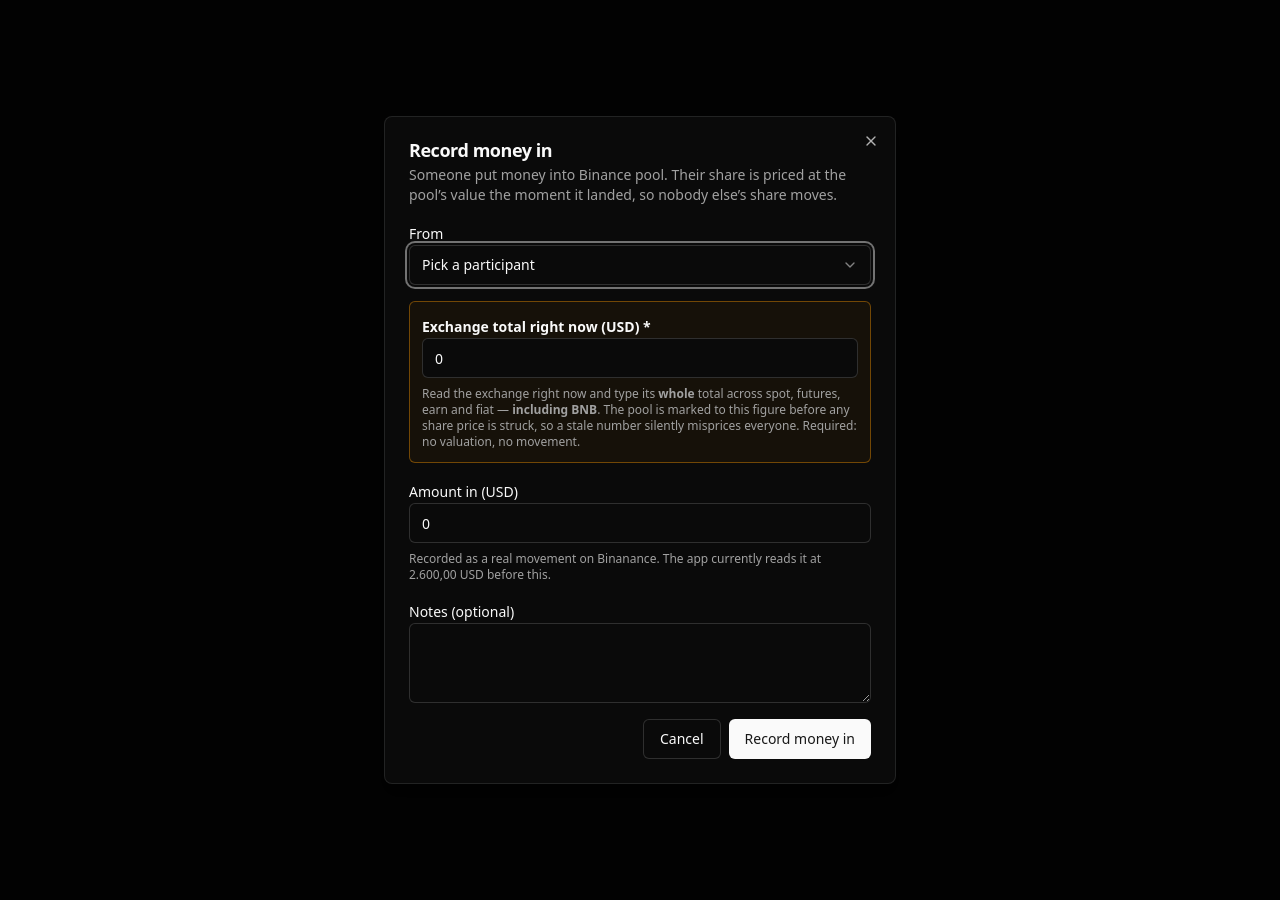
Scenario: amount validation › rejects a zero subscription
Click the dropdown with test id "subscription-participant-select".
click(478, 264)  # box top-left (409, 245), bottom-right (871, 285)
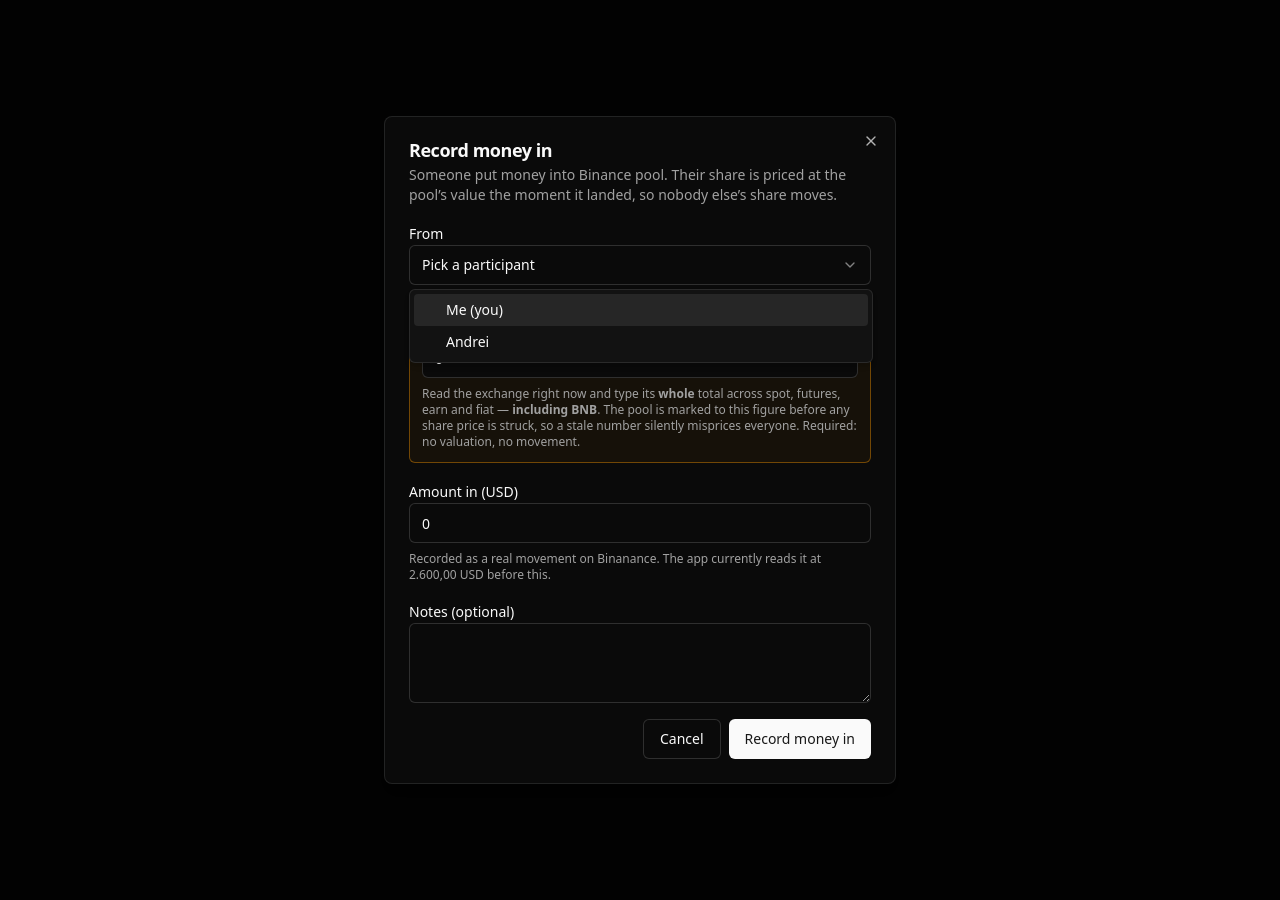
Click the option "Andrei".
click(468, 342)  # box top-left (446, 332), bottom-right (489, 351)
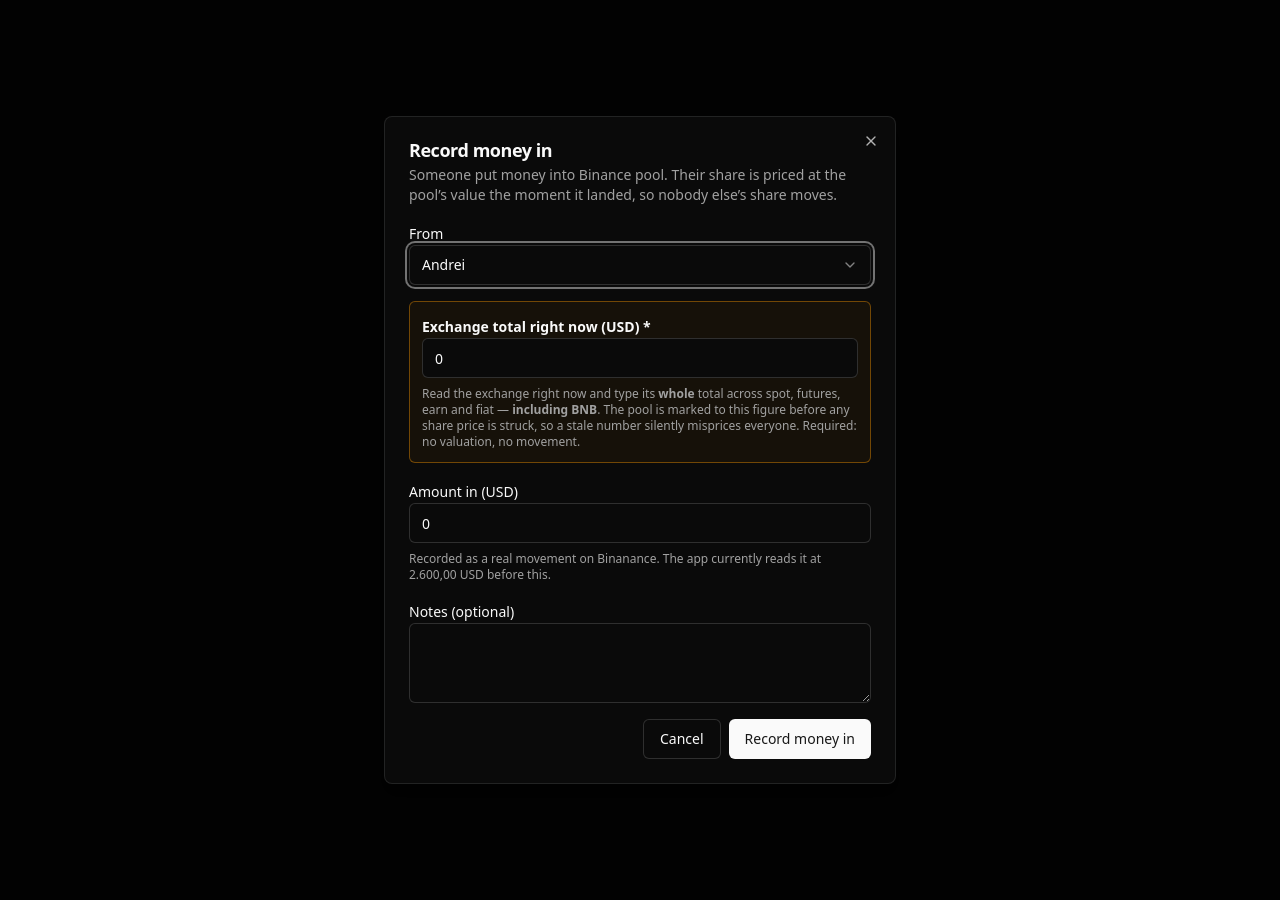
Replace the text in the number field with test id "subscription-pool-value-input" with "2500" at (640, 358), box top-left (422, 338), bottom-right (858, 378)
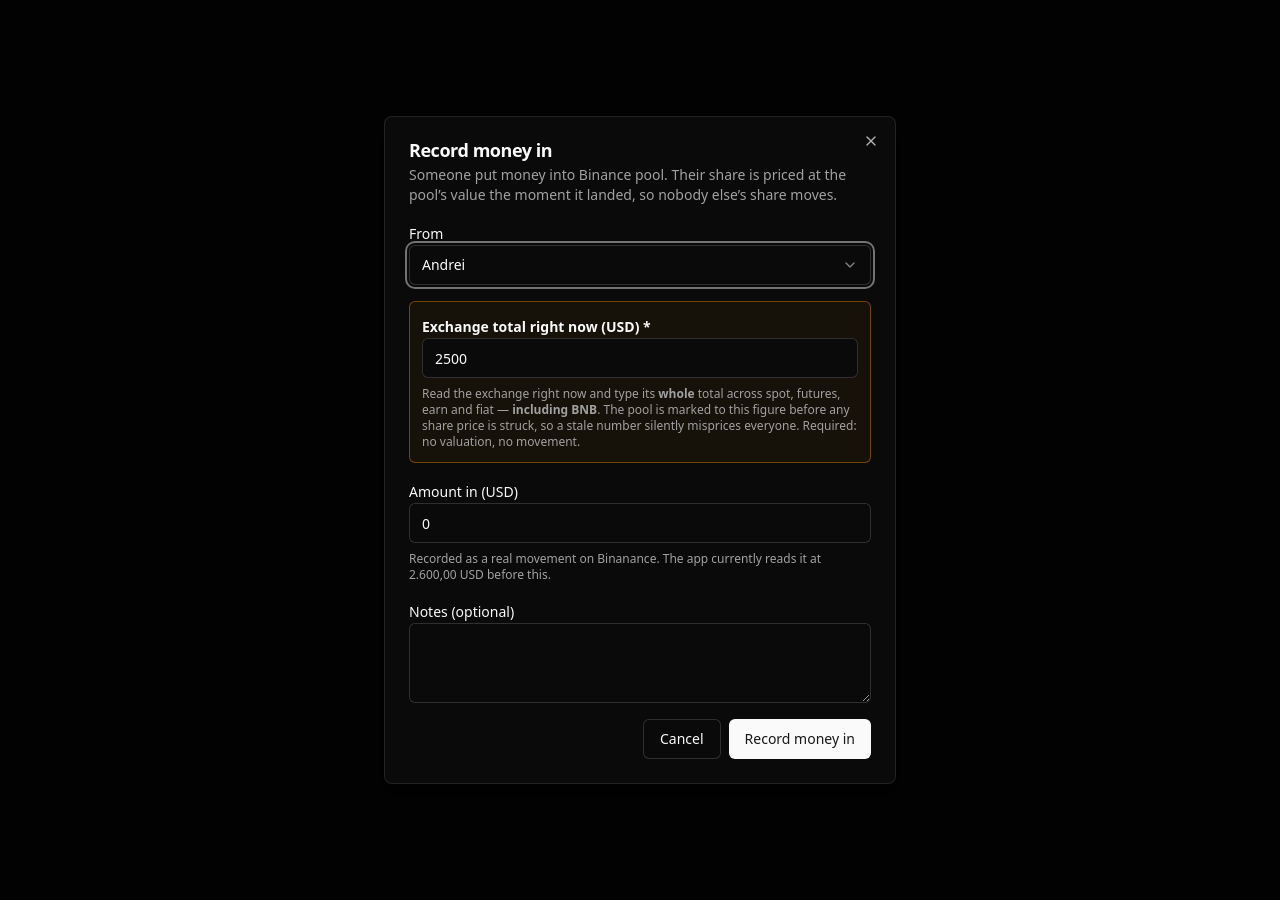
Click the button with test id "subscription-submit-button".
click(800, 739)  # box top-left (729, 719), bottom-right (871, 759)
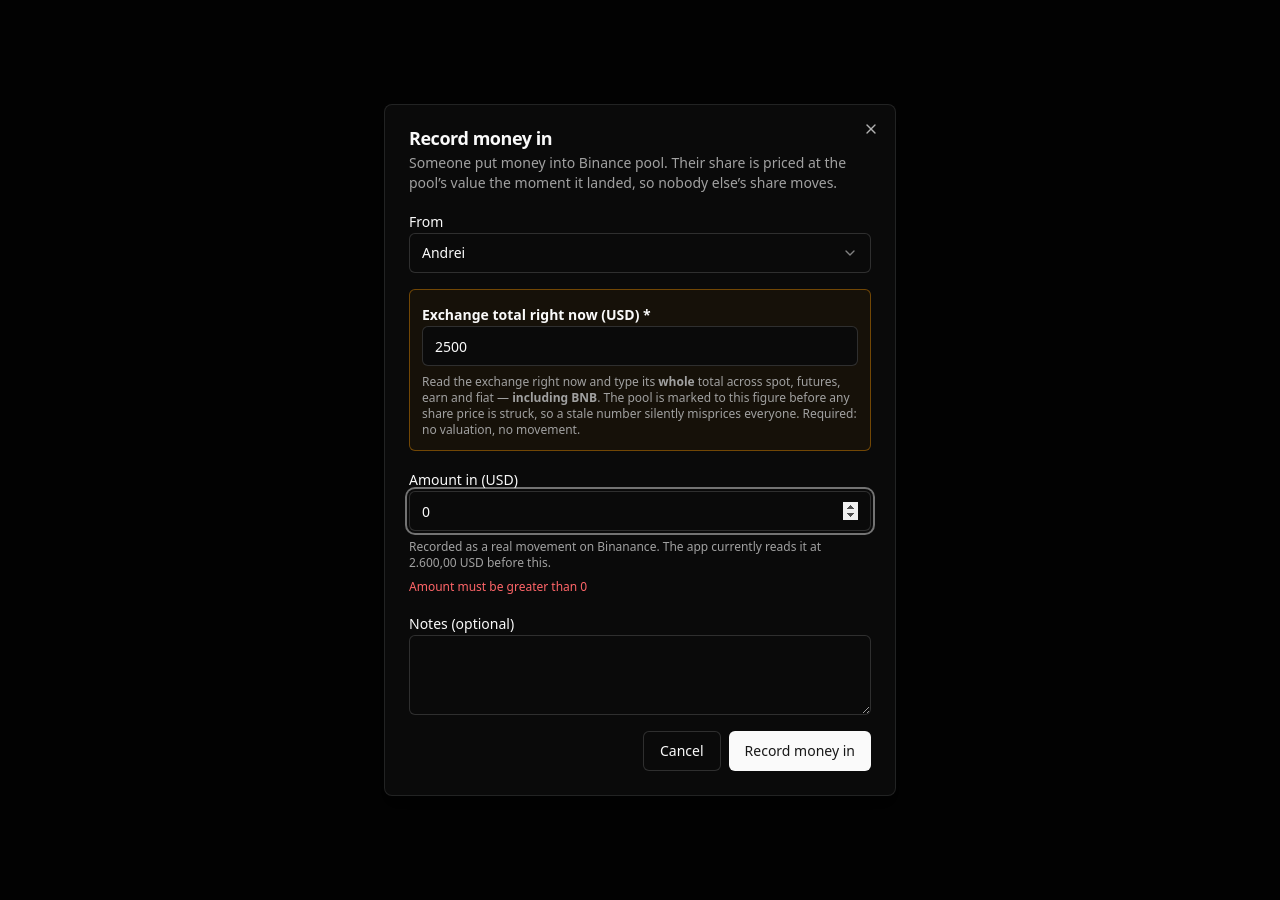
Expected: the message with test id "subscription-cash-error" reads "Amount must be greater than 0", top-left (409, 578), bottom-right (587, 595)
